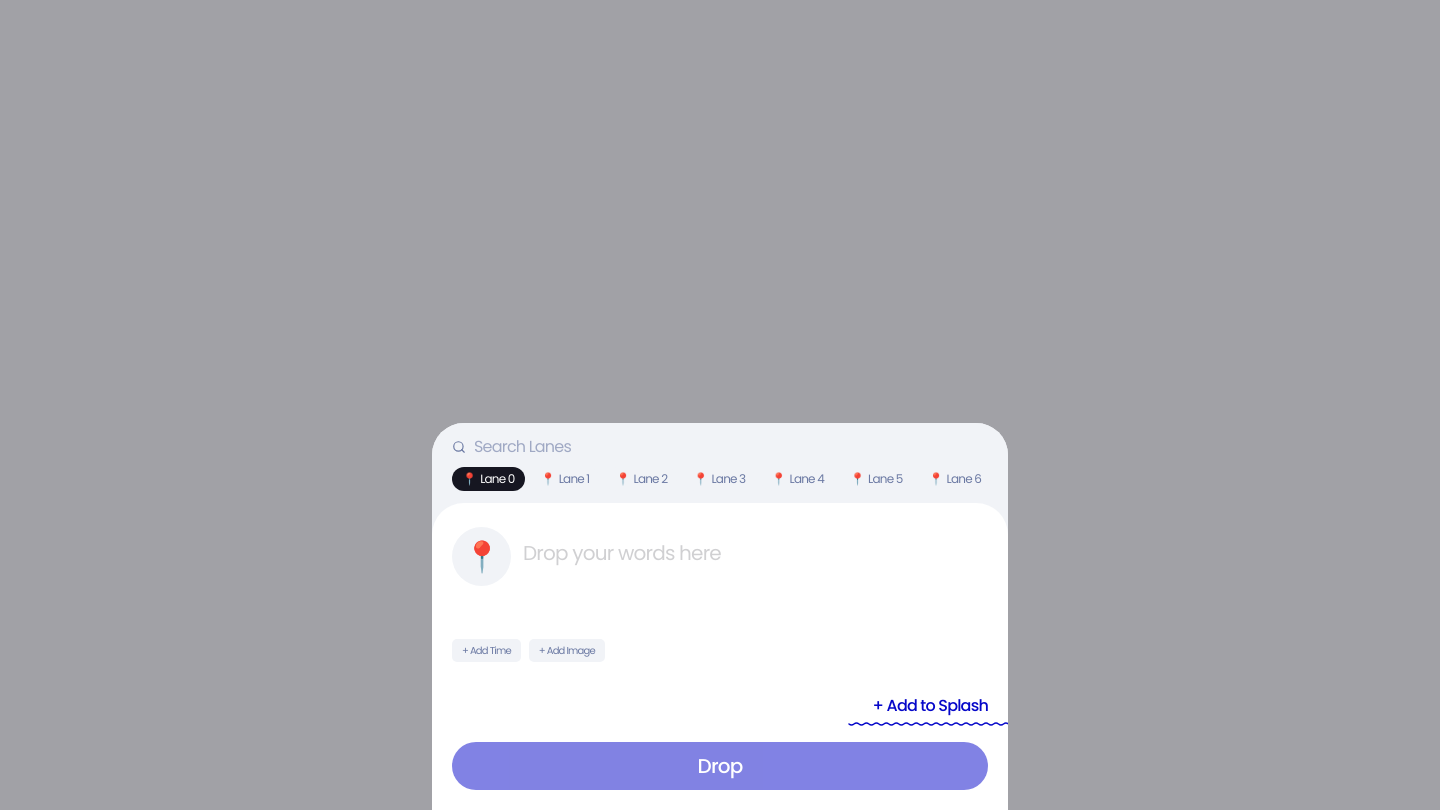
Test: the chip row (H20f) › shows a search field only past the lane threshold, never on mere overflow
In the field labelled "Search Lanes": (731, 447) [474,435,988,459], type "Lane 3"
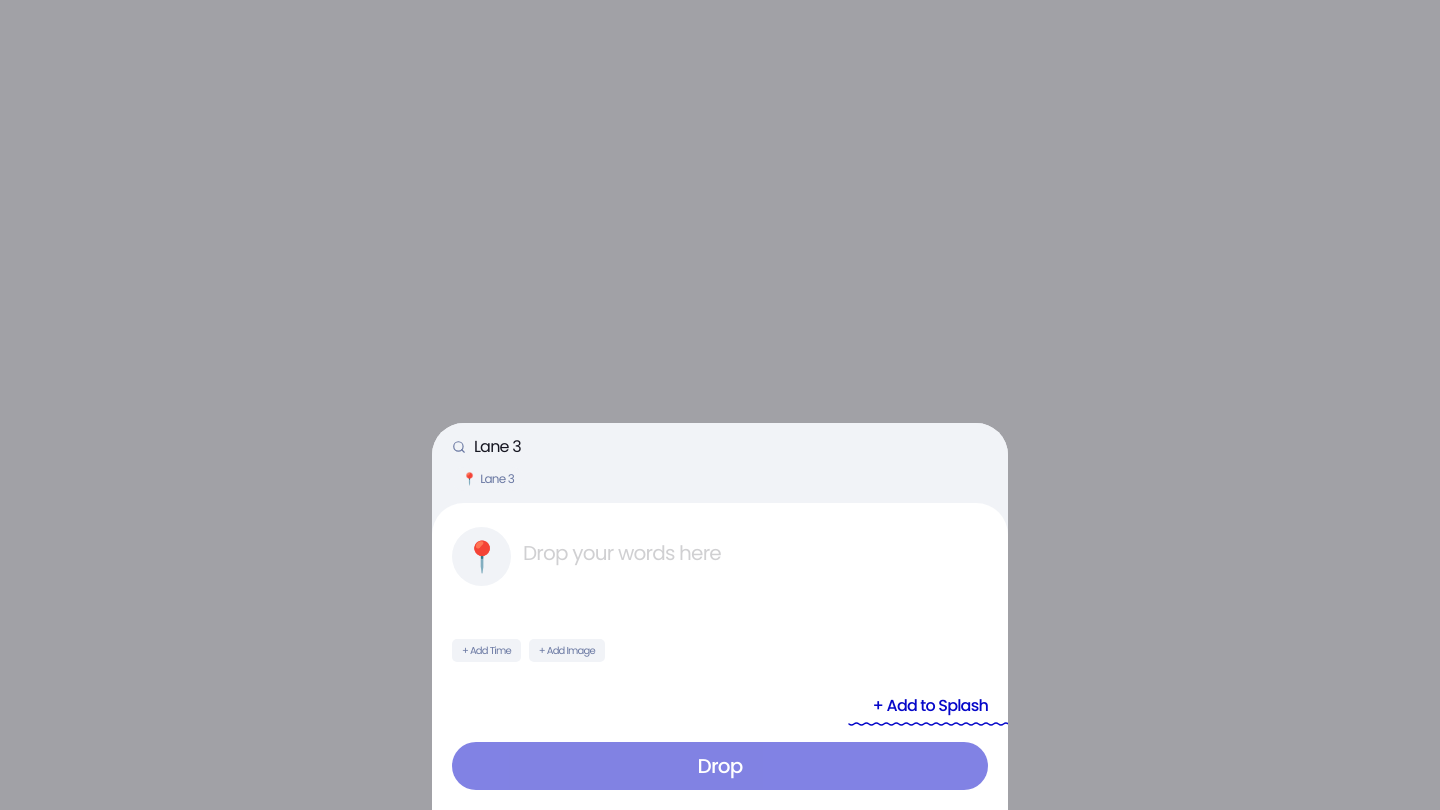
Result: the element "Lane" reads "📍 Lane 3" at [452,467,524,491]
